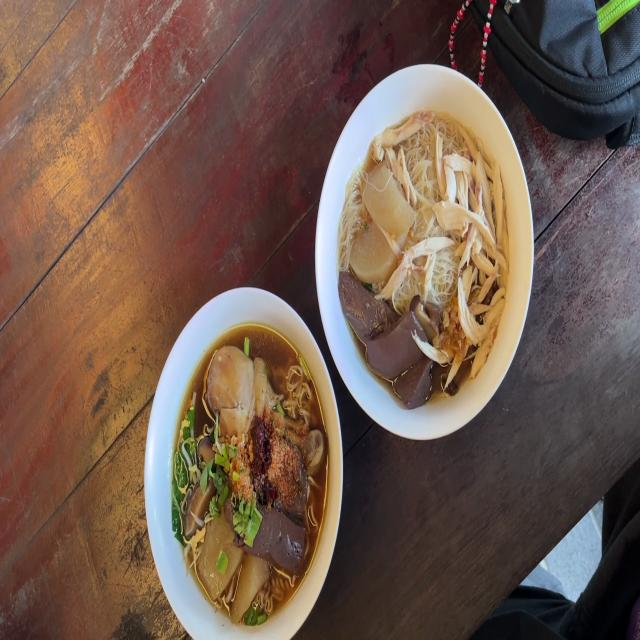noodle: (353, 118, 497, 382), (180, 347, 323, 603)
